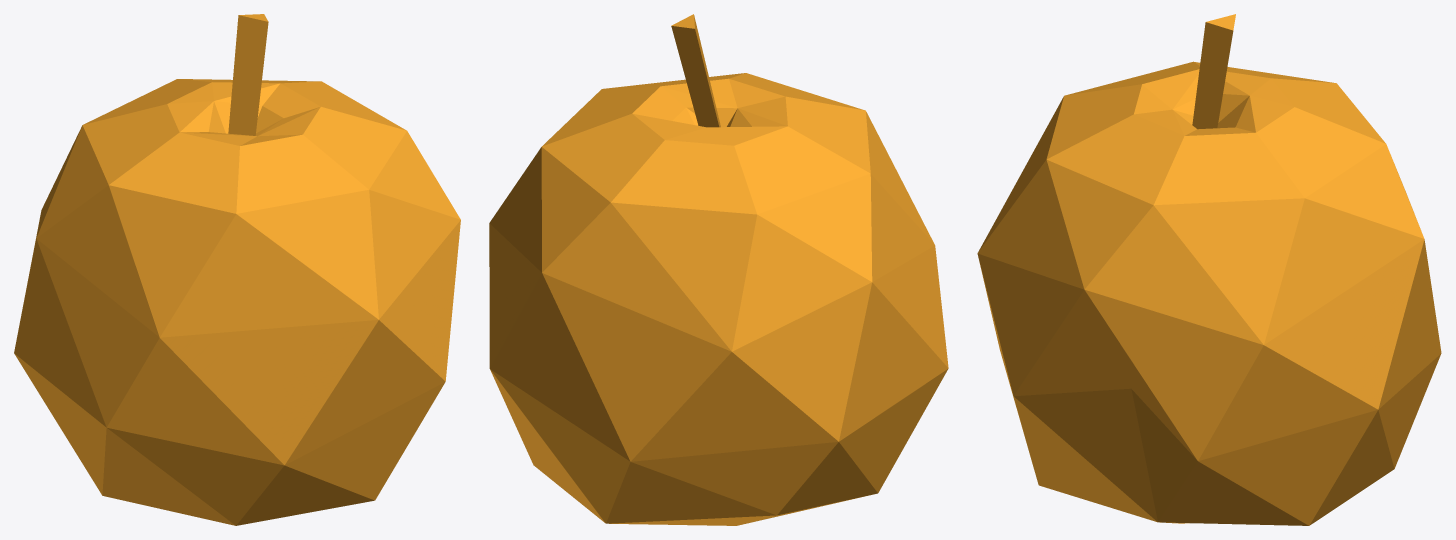
The model's file is SM_Apple_Green_Red.fbx.
The picture shows the model from 3 angles, left to right: view 1: azimuth 30°, elevation 25°; view 2: azimuth 150°, elevation 25°; view 3: azimuth 270°, elevation 25°; orthographic projection. The views are drawn at different scales.
Visible parts, largest first — view 1: apple-green-red; view 2: apple-green-red; view 3: apple-green-red.
Boxes of the visible parts, left/top/right/bottom form: apple-green-red: left=14, top=14, right=460, bottom=525; apple-green-red: left=489, top=14, right=948, bottom=525; apple-green-red: left=977, top=14, right=1441, bottom=525.
Size of the model in its own units: 0.135 by 0.1554 by 0.1372.
